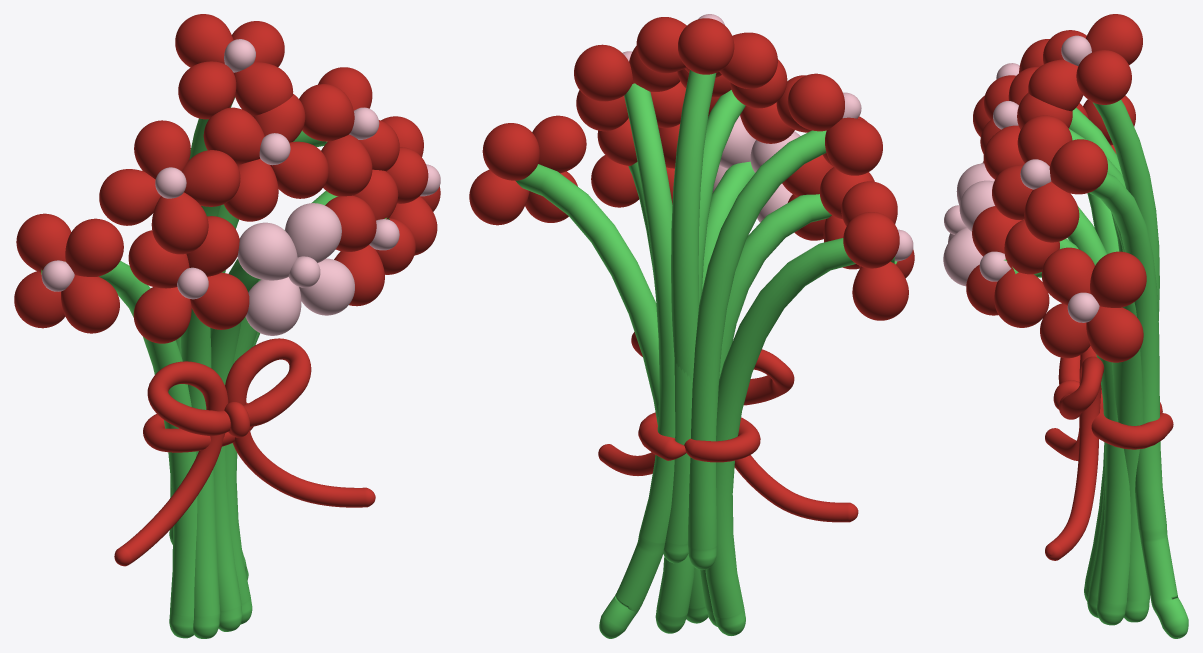
The model's file is flower.glb.
3 views of the same model, side by side, from view 1: azimuth 30°, elevation 25°; view 2: azimuth 150°, elevation 25°; view 3: azimuth 270°, elevation 25° (orthographic). The views are drawn at different scales.
Visible parts, largest first — view 1: BezierCurve%2E007, BezierCurve, Sphere%2E000, Sphere%2E004, Sphere%2E003, Sphere%2E001, Sphere%2E002, Sphere%2E018_0_1, Sphere%2E008, Sphere%2E018_0, Sphere%2E005, Sphere%2E008_0_1 (+16 smaller); view 2: BezierCurve%2E004, BezierCurve%2E007, Sphere%2E003, Sphere%2E002, Sphere%2E000, BezierCurve, Sphere%2E004, Sphere%2E001, BezierCurve%2E003, Sphere%2E023_0_1, Sphere%2E015, Sphere%2E018 (+9 smaller); view 3: BezierCurve%2E004, BezierCurve%2E007, Sphere%2E002, Sphere%2E003, BezierCurve, Sphere%2E001, Sphere%2E023_0_1, Sphere%2E023_0, Sphere%2E013, Sphere%2E023, BezierCurve%2E003, Sphere%2E020 (+12 smaller).
Boxes of the visible parts, bbox=[...] form: BezierCurve%2E007: bbox=[41, 191, 389, 638]; BezierCurve: bbox=[114, 338, 375, 566]; Sphere%2E000: bbox=[99, 120, 240, 254]; Sphere%2E004: bbox=[128, 216, 249, 343]; Sphere%2E003: bbox=[175, 14, 293, 119]; Sphere%2E001: bbox=[203, 94, 328, 221]; Sphere%2E002: bbox=[299, 67, 399, 196]; Sphere%2E018_0_1: bbox=[65, 218, 123, 276]; Sphere%2E008: bbox=[237, 222, 297, 280]; Sphere%2E018_0: bbox=[61, 275, 119, 333]; Sphere%2E005: bbox=[245, 277, 301, 335]; Sphere%2E008_0_1: bbox=[285, 203, 341, 262]; BezierCurve%2E004: bbox=[599, 70, 826, 638]; BezierCurve%2E007: bbox=[515, 161, 897, 635]; Sphere%2E003: bbox=[636, 14, 777, 88]; Sphere%2E002: bbox=[574, 44, 685, 131]; Sphere%2E000: bbox=[776, 73, 882, 175]; BezierCurve: bbox=[598, 332, 858, 522]; Sphere%2E004: bbox=[782, 155, 874, 269]; Sphere%2E001: bbox=[677, 59, 794, 143]; BezierCurve%2E003: bbox=[638, 412, 760, 462]; Sphere%2E023_0_1: bbox=[482, 123, 539, 180]; Sphere%2E015: bbox=[852, 261, 908, 320]; Sphere%2E018: bbox=[843, 212, 899, 268]; BezierCurve%2E004: bbox=[1068, 100, 1188, 638]; BezierCurve%2E007: bbox=[1004, 193, 1149, 625]; Sphere%2E002: bbox=[992, 115, 1107, 242]; Sphere%2E003: bbox=[1028, 14, 1142, 111]; BezierCurve: bbox=[1045, 346, 1104, 560]; Sphere%2E001: bbox=[980, 67, 1072, 179]; Sphere%2E023_0_1: bbox=[1090, 251, 1146, 307]; Sphere%2E023_0: bbox=[1086, 306, 1143, 362]; Sphere%2E013: bbox=[994, 269, 1049, 327]; Sphere%2E023: bbox=[1041, 247, 1094, 305]; BezierCurve%2E003: bbox=[1091, 390, 1173, 449]; Sphere%2E020: bbox=[1040, 303, 1090, 358].
Bounding box in the file's own units: 222 × 305 × 114.
